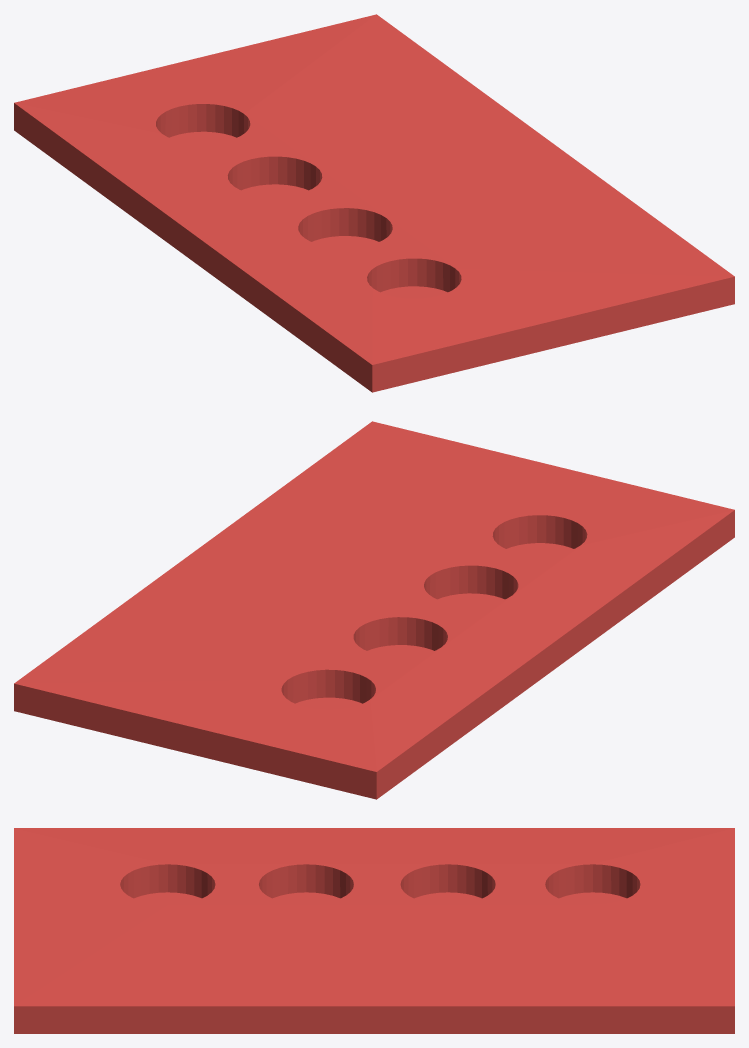
Rendered from boxPuzzle.fbx.
3 views of the same model, one above another, from view 1: azimuth 30°, elevation 25°; view 2: azimuth 150°, elevation 25°; view 3: azimuth 270°, elevation 25° (orthographic).
Parts seen in each view (by area): view 1: Cylinder.003; view 2: Cylinder.003; view 3: Cylinder.003.
Part boxes in pixels (bbox=[...]): Cylinder.003: bbox=[14, 14, 734, 392]; Cylinder.003: bbox=[14, 421, 734, 799]; Cylinder.003: bbox=[14, 828, 734, 1033].
Bounding box in the file's own units: 297 × 22.93 × 508.
